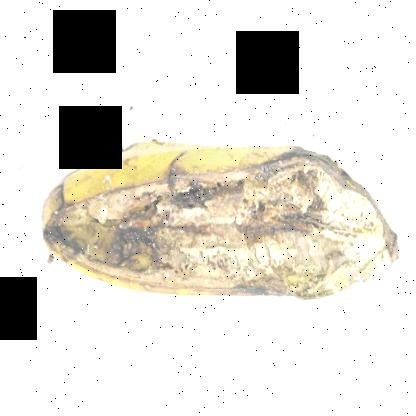rotten: (33, 135, 398, 328)
